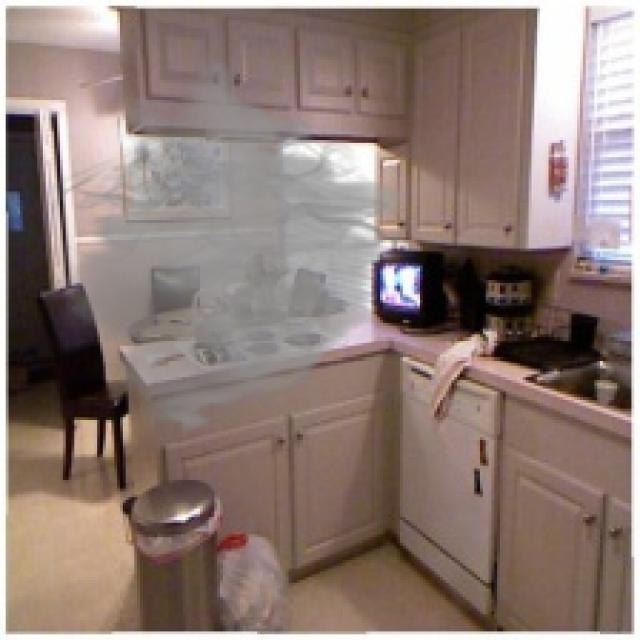Smoke: (31, 57, 423, 434)
